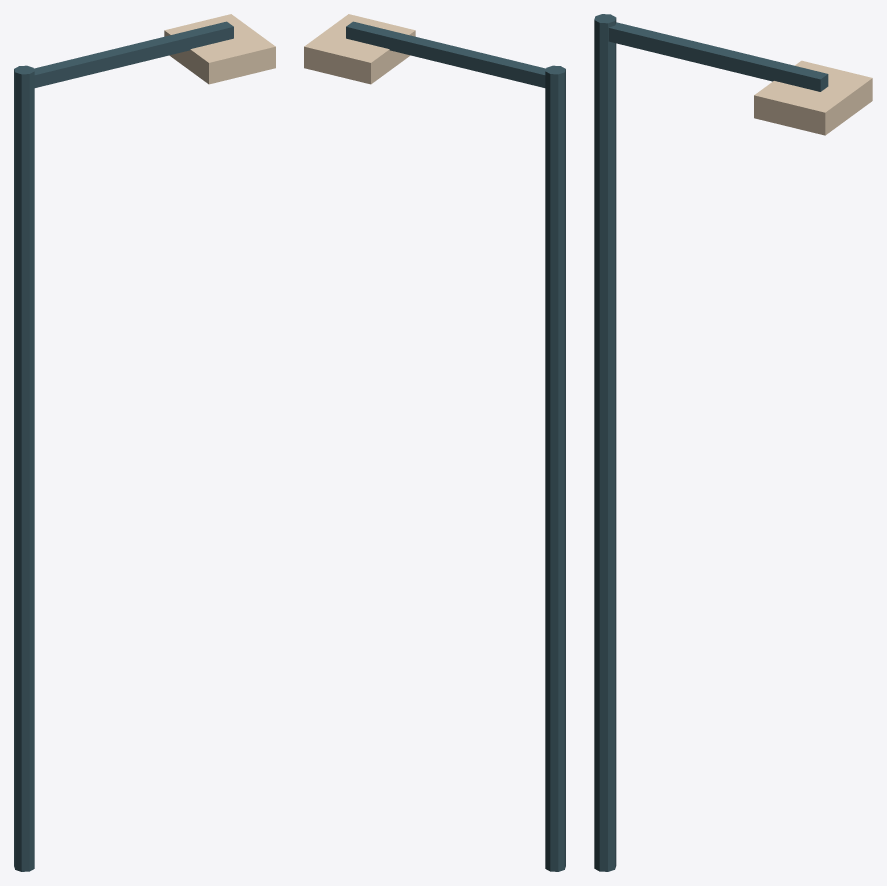
The model's file is lamp.obj.
The picture shows the model from 3 angles, left to right: view 1: azimuth 30°, elevation 25°; view 2: azimuth 150°, elevation 25°; view 3: azimuth 330°, elevation 25°; orthographic projection. The views are drawn at different scales.
Visible parts, largest first — view 1: lamp; view 2: lamp; view 3: lamp.
Boxes of the visible parts, x1=… form: lamp: x1=14, y1=14, x2=275, y2=871; lamp: x1=304, y1=14, x2=565, y2=871; lamp: x1=594, y1=14, x2=872, y2=871.
Bounding box in the file's own units: 2.31 × 7.4 × 0.75.
